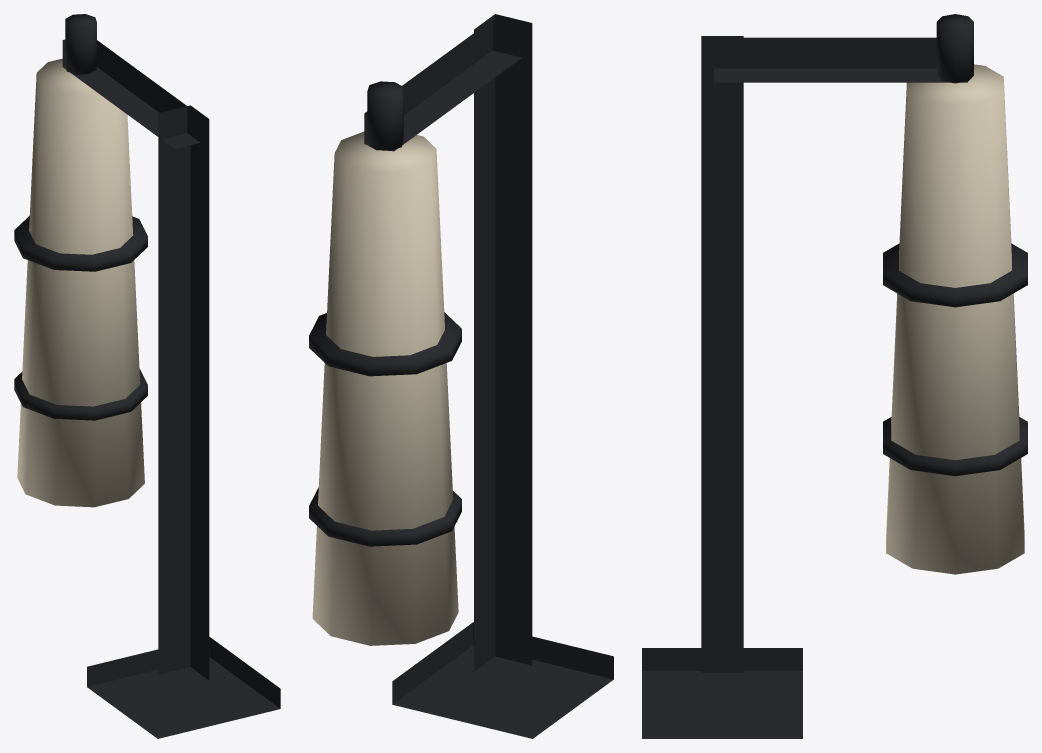
3 views of the same model, side by side, from view 1: azimuth 30°, elevation 25°; view 2: azimuth 150°, elevation 25°; view 3: azimuth 270°, elevation 25° (orthographic). The views are drawn at different scales.
Visible parts, largest first — view 1: root; view 2: root; view 3: root.
Boxes of the visible parts, left/top/right/bottom form: root: left=14, top=14, right=280, bottom=738; root: left=309, top=14, right=613, bottom=738; root: left=642, top=14, right=1027, bottom=738.
Size of the model in its own units: 0.5791 by 2.71 by 1.39.
